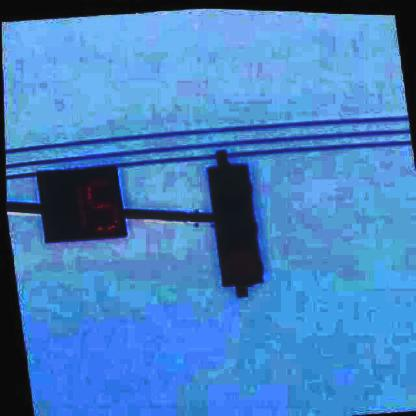Traffic Light -Red-: (204, 158, 264, 286)
